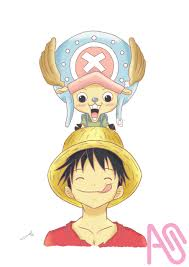chopper: (38, 30, 148, 126)
luffy: (44, 128, 145, 212)
